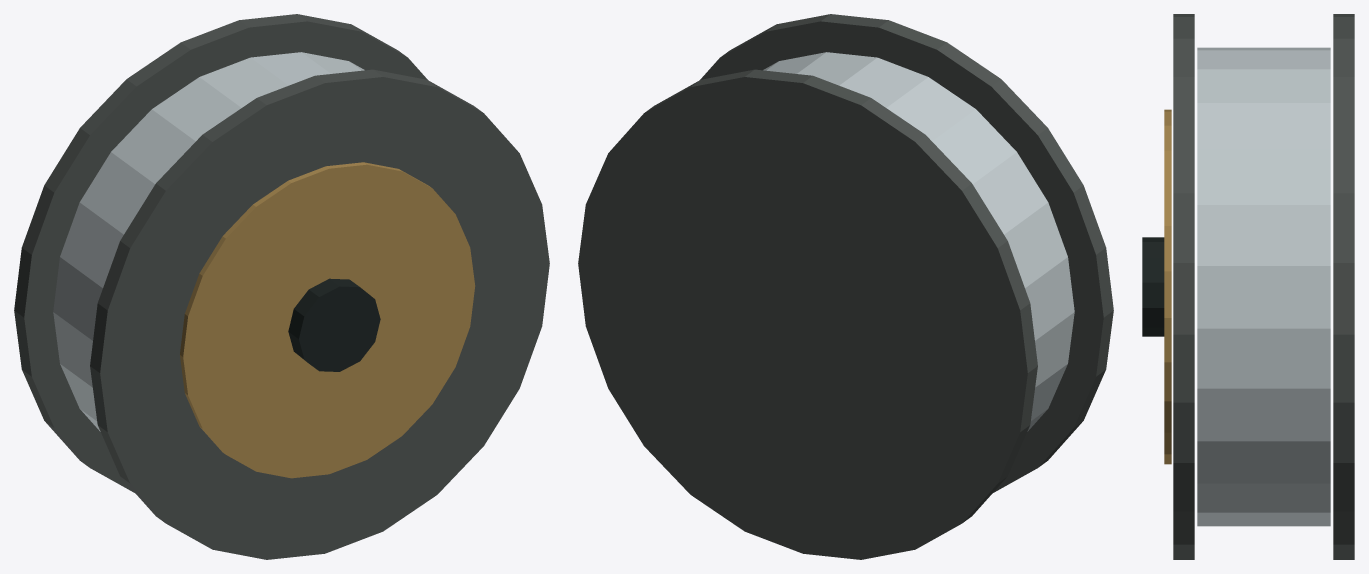
File: clear_line.glb
3 views of the same model, side by side, from view 1: azimuth 30°, elevation 25°; view 2: azimuth 150°, elevation 25°; view 3: azimuth 270°, elevation 25° (orthographic). The views are drawn at different scales.
Visible parts, largest first — view 1: Spool_flange.006, Front_label.003, Spool_flange.007, Wound_line.003, Center_hub; view 2: Spool_flange.007, Spool_flange.006, Wound_line.003; view 3: Wound_line.003, Spool_flange.006, Spool_flange.007, Front_label.003, Center_hub.
Part boxes in pixels (x1,y1,x2,y2): Spool_flange.006: (90, 69, 549, 559); Front_label.003: (180, 162, 475, 478); Spool_flange.007: (14, 14, 427, 493); Wound_line.003: (53, 52, 364, 431); Center_hub: (288, 278, 380, 371); Spool_flange.007: (578, 69, 1037, 559); Spool_flange.006: (700, 14, 1113, 493); Wound_line.003: (763, 52, 1074, 431); Wound_line.003: (1197, 47, 1330, 526); Spool_flange.006: (1173, 14, 1194, 559); Spool_flange.007: (1333, 14, 1354, 559); Front_label.003: (1164, 109, 1171, 464); Center_hub: (1142, 237, 1164, 336).
Size of the model in its own units: 0.308 by 0.308 by 0.1195.
